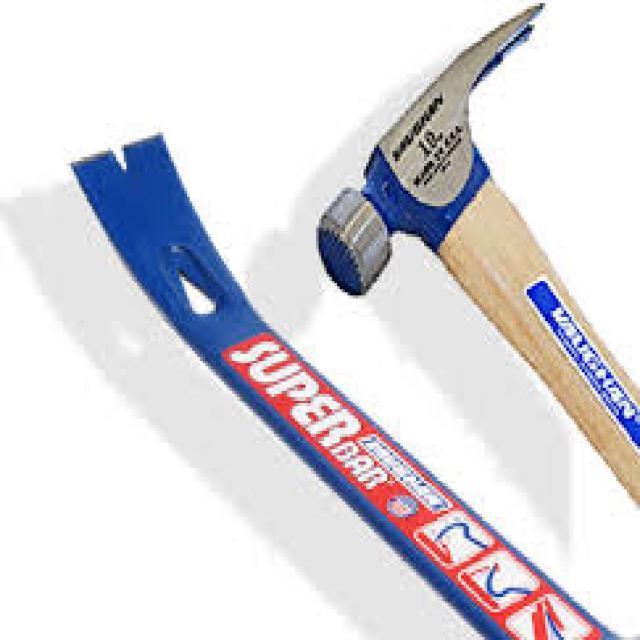hammer: (306, 0, 640, 522)
